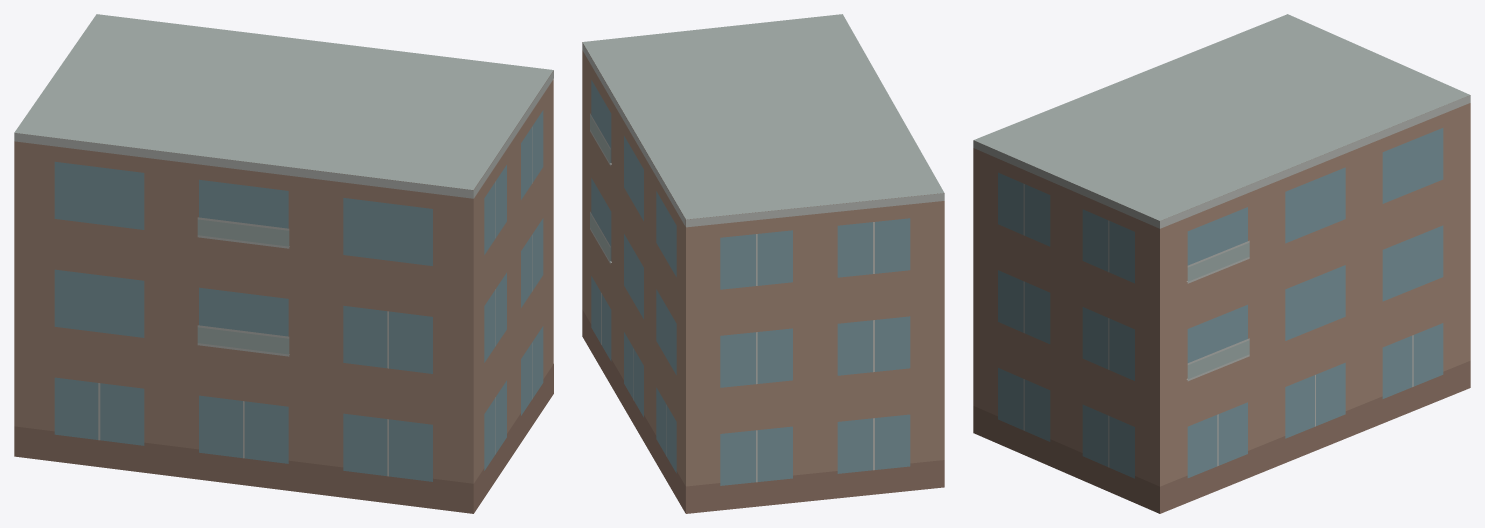
File: survey-upis-32855470.glb
3 renders of one model, left to right at view 1: azimuth 30°, elevation 25°; view 2: azimuth 150°, elevation 25°; view 3: azimuth 270°, elevation 25°, orthographic. The views are drawn at different scales.
Visible parts, largest first — view 1: survey-upis-32855470.tmp; view 2: survey-upis-32855470.tmp; view 3: survey-upis-32855470.tmp.
Boxes of the visible parts, box(x1,y1,x2,y2) form: survey-upis-32855470.tmp: box(14, 14, 553, 513); survey-upis-32855470.tmp: box(582, 14, 944, 513); survey-upis-32855470.tmp: box(973, 14, 1470, 513).
Size of the model in its own units: 13.88 by 9.15 by 14.08.
